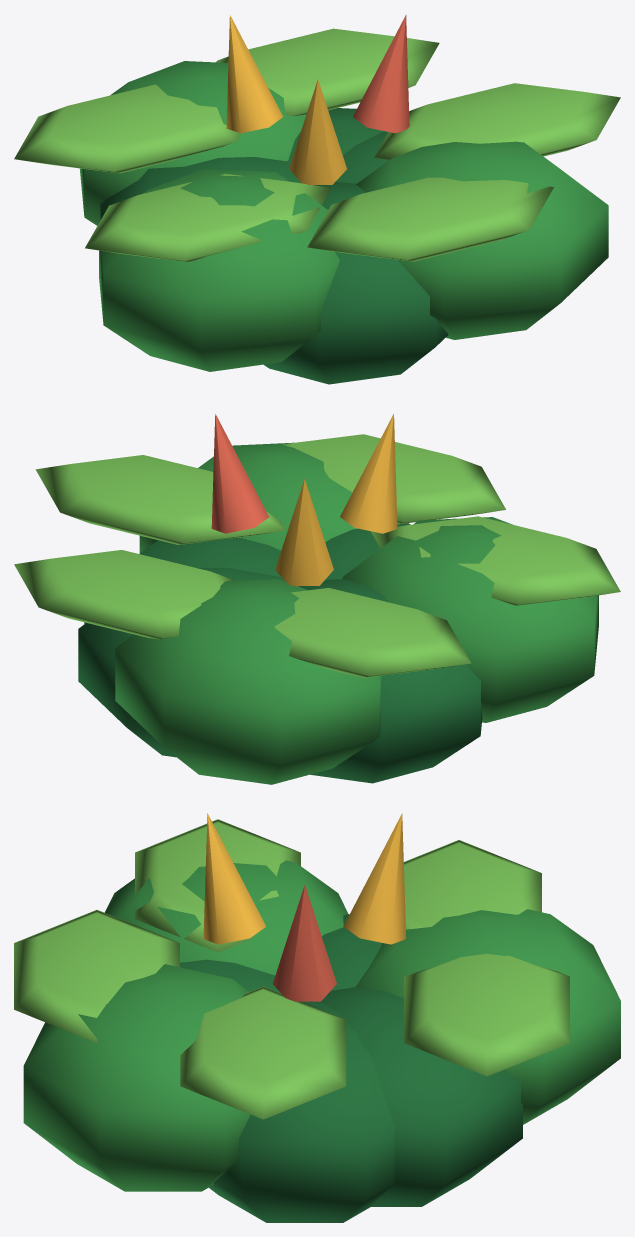
File: tropical-bush.glb
The picture shows the model from 3 angles, top to bottom: view 1: azimuth 30°, elevation 25°; view 2: azimuth 150°, elevation 25°; view 3: azimuth 270°, elevation 25°; orthographic projection. The views are drawn at different scales.
Parts seen in each view (by area): view 1: Mesh_leaf, Mesh_leafLight, Mesh_leafDark, Mesh_mango, Mesh_coral; view 2: Mesh_leaf, Mesh_leafLight, Mesh_leafDark, Mesh_mango, Mesh_coral; view 3: Mesh_leaf, Mesh_leafLight, Mesh_leafDark, Mesh_mango, Mesh_coral.
Part boxes in pixels (x1=…): Mesh_leaf: x1=79, y1=61, x2=608, y2=371; Mesh_leafLight: x1=14, y1=28, x2=620, y2=262; Mesh_leafDark: x1=100, y1=108, x2=448, y2=384; Mesh_mango: x1=226, y1=15, x2=346, y2=184; Mesh_coral: x1=353, y1=15, x2=409, y2=133; Mesh_leaf: x1=115, y1=442, x2=598, y2=784; Mesh_leafLight: x1=14, y1=434, x2=620, y2=677; Mesh_leafDark: x1=78, y1=523, x2=482, y2=783; Mesh_mango: x1=275, y1=413, x2=397, y2=586; Mesh_coral: x1=211, y1=414, x2=268, y2=533; Mesh_leaf: x1=23, y1=860, x2=620, y2=1191; Mesh_leafLight: x1=14, y1=819, x2=569, y2=1119; Mesh_leafDark: x1=180, y1=914, x2=522, y2=1222; Mesh_mango: x1=203, y1=813, x2=406, y2=944; Mesh_coral: x1=273, y1=884, x2=336, y2=1001.
Bounding box in the file's own units: 1.77 × 0.89 × 1.51.
